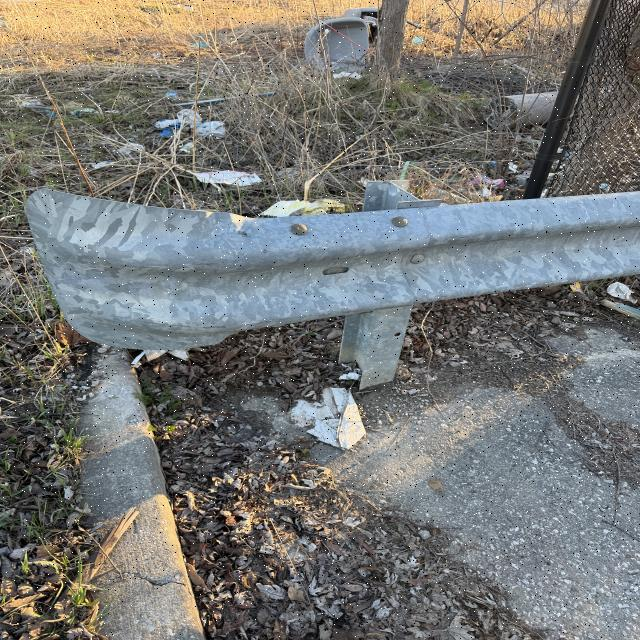Guard rail: (49, 190, 634, 335)
